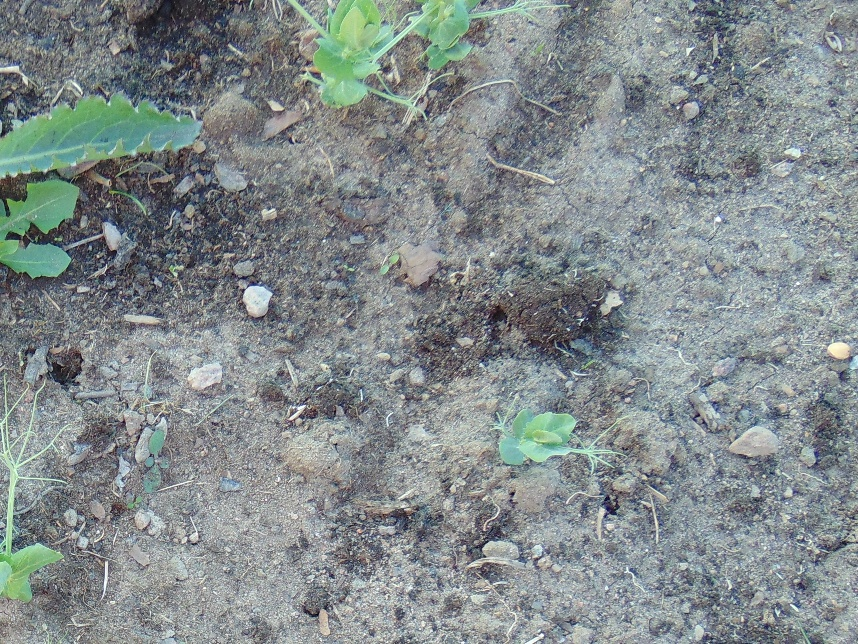crop: (272, 1, 486, 117), (1, 398, 65, 611), (496, 403, 607, 470)
weed: (1, 102, 207, 178), (1, 173, 80, 288), (132, 428, 170, 497), (379, 253, 402, 277)
